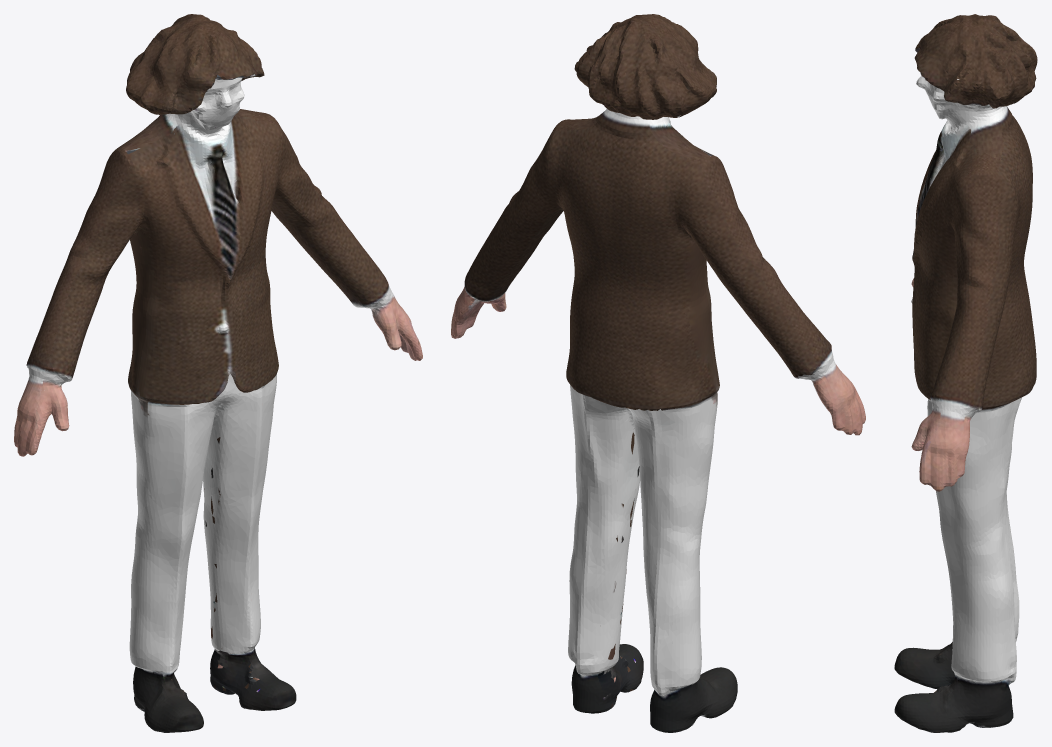
Rendered from hunyuan_raw.glb.
The picture shows the model from 3 angles, left to right: view 1: azimuth 30°, elevation 25°; view 2: azimuth 150°, elevation 25°; view 3: azimuth 270°, elevation 25°; orthographic projection.
Visible parts, largest first — view 1: tmpf7a_akhh.ply; view 2: tmpf7a_akhh.ply; view 3: tmpf7a_akhh.ply.
Part boxes in pixels (x1=…): tmpf7a_akhh.ply: x1=14, y1=14, x2=422, y2=732; tmpf7a_akhh.ply: x1=451, y1=14, x2=865, y2=732; tmpf7a_akhh.ply: x1=894, y1=14, x2=1037, y2=732.
Size of the model in its own units: 1.22 by 1.99 by 0.377.
Materials: 1 (1 with a texture image).
